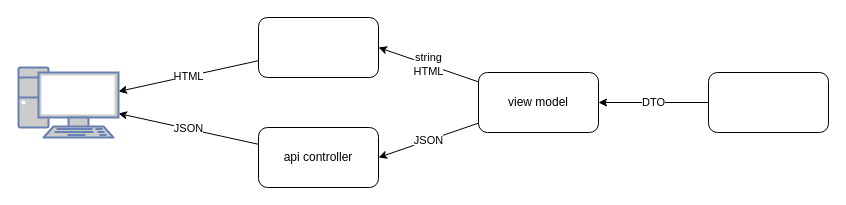
Image size: 846x205. Some labels were removed from this diagram. The shapes that lost their labels are listed below. From the top down, each one's box as (x1, y1, x2, y2) in pixels, then its label:
(258, 16, 378, 78): view controller
(708, 72, 828, 132): query
